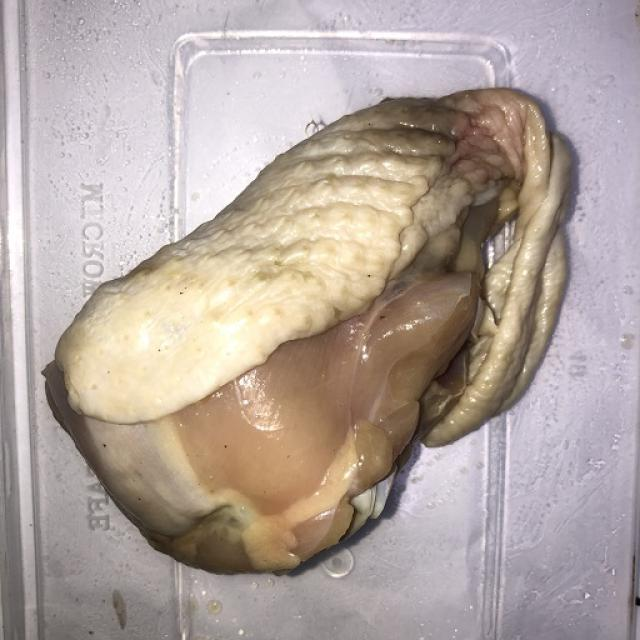chicken: (45, 84, 572, 575)
